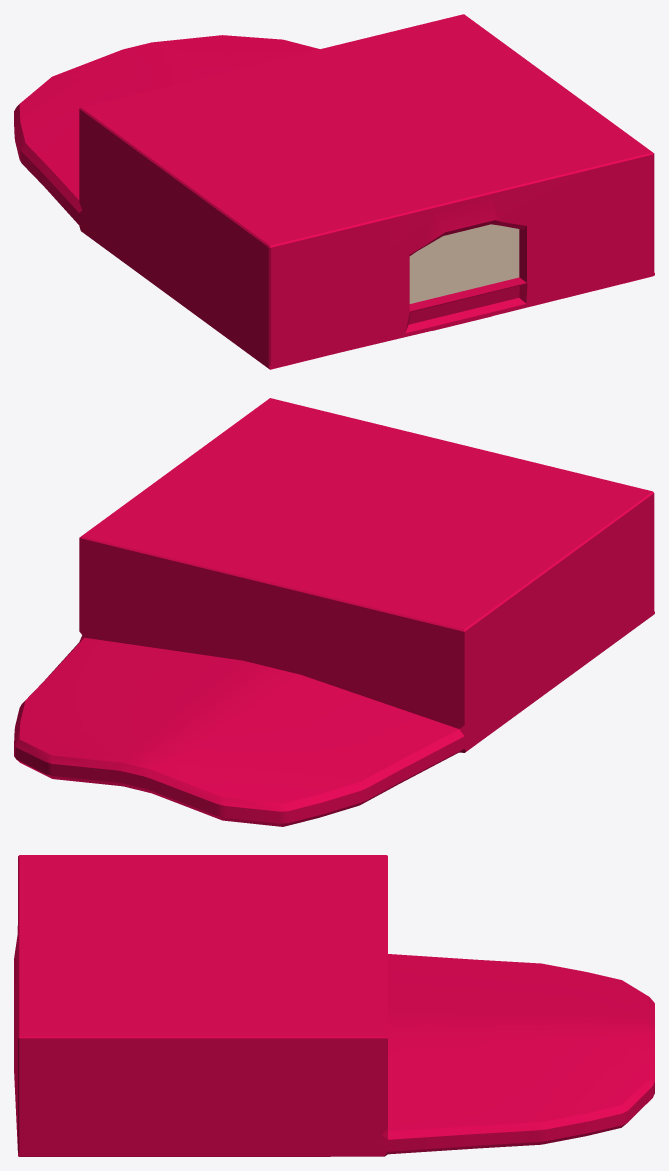
Rendered from snapback.fbx.
3 renders of one model, top to bottom at view 1: azimuth 30°, elevation 25°; view 2: azimuth 150°, elevation 25°; view 3: azimuth 270°, elevation 25°, orthographic. The views are drawn at different scales.
Visible parts, largest first — view 1: pCube7; view 2: pCube7; view 3: pCube7.
Part boxes in pixels (<box>): pCube7: <box>14,14,654,369</box>; pCube7: <box>14,398,654,826</box>; pCube7: <box>14,855,654,1156</box>.
Bounding box in the file's own units: 16.24 × 5 × 24.08.
